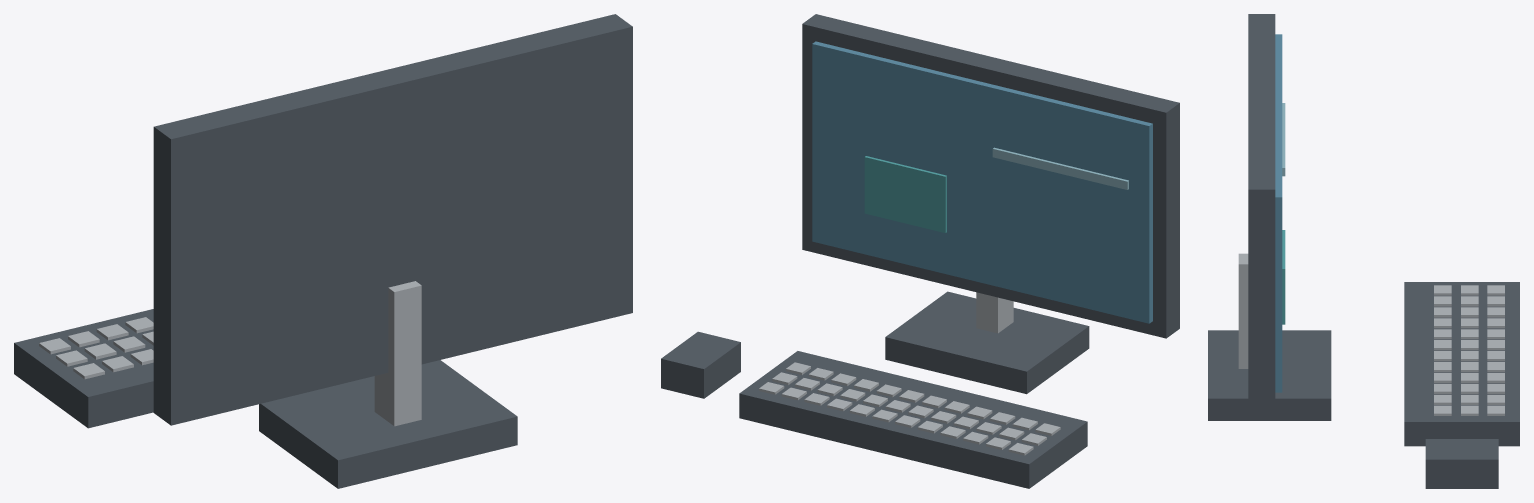
3 views of the same model, side by side, from view 1: azimuth 30°, elevation 25°; view 2: azimuth 150°, elevation 25°; view 3: azimuth 270°, elevation 25° (orthographic). The views are drawn at different scales.
Parts seen in each view (by area): view 1: desktop-0, desktop-5, desktop-6, desktop-4; view 2: desktop-1, desktop-0, desktop-6, desktop-5, desktop-3, desktop-7, desktop-2, desktop-4; view 3: desktop-6, desktop-0, desktop-5, desktop-7, desktop-1, desktop-4, desktop-3.
Boxes of the visible parts, box(x1,y1,x2,y2) form: desktop-0: box(153, 14, 632, 425); desktop-5: box(259, 360, 517, 488); desktop-6: box(14, 309, 153, 428); desktop-4: box(374, 281, 421, 426); desktop-1: box(812, 41, 1152, 323); desktop-0: box(802, 14, 1179, 338); desktop-6: box(739, 351, 1087, 488); desktop-5: box(885, 291, 1089, 394); desktop-3: box(864, 156, 946, 232); desktop-7: box(661, 331, 740, 398); desktop-2: box(992, 147, 1128, 189); desktop-4: box(976, 292, 1013, 333); desktop-6: box(1404, 282, 1519, 446); desktop-0: box(1248, 14, 1275, 413); desktop-5: box(1208, 330, 1331, 420); desktop-7: box(1425, 439, 1498, 488); desktop-1: box(1275, 34, 1282, 392); desktop-4: box(1238, 253, 1248, 368); desktop-3: box(1282, 230, 1285, 324).
Bounding box in the file's own units: 0.582 × 0.4095 × 0.405.
